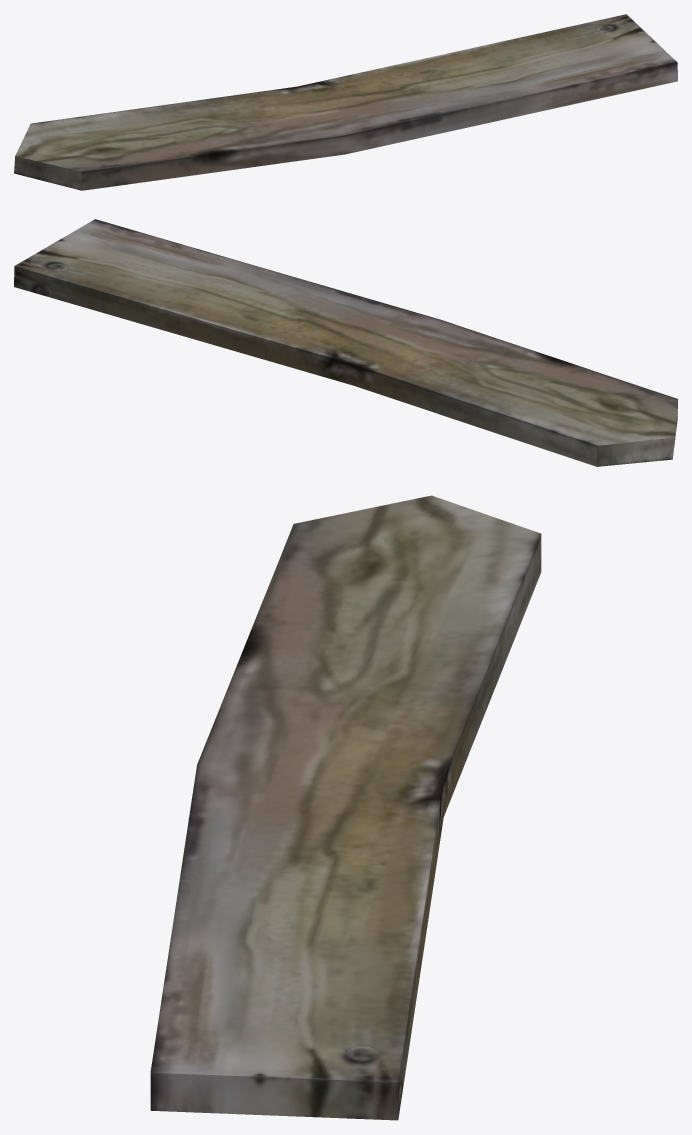
File: pir_m_prp_shn_debris_boardA.fbx
The picture shows the model from 3 angles, top to bottom: view 1: azimuth 30°, elevation 25°; view 2: azimuth 150°, elevation 25°; view 3: azimuth 270°, elevation 25°; orthographic projection. The views are drawn at different scales.
Visible parts, largest first — view 1: lod_high; view 2: lod_high; view 3: lod_high.
Boxes of the visible parts, bbox=[...] form: lod_high: bbox=[14, 14, 677, 190]; lod_high: bbox=[14, 219, 677, 466]; lod_high: bbox=[150, 495, 541, 1120].
Bounding box in the file's own units: 1190 × 44.48 × 334.
Materials: 1 (1 with a texture image).
